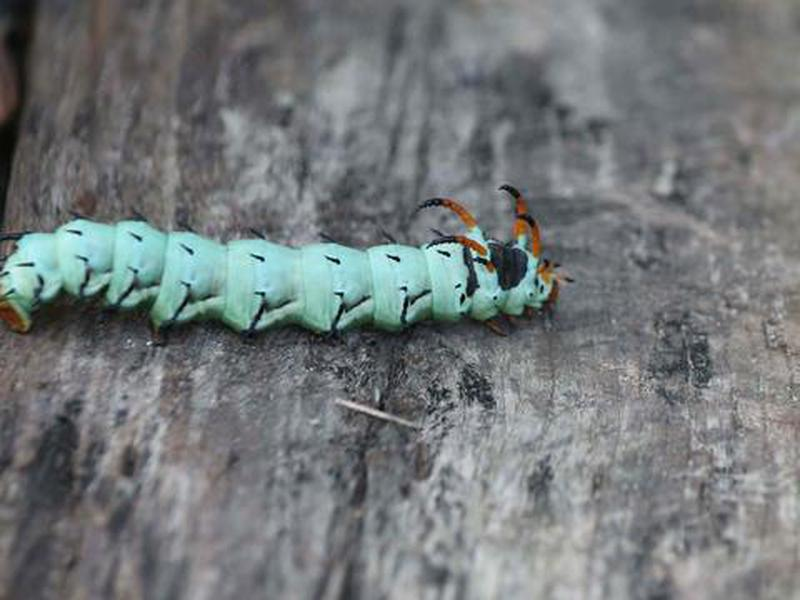Rice_horned_caterpillar: (9, 185, 594, 382)
